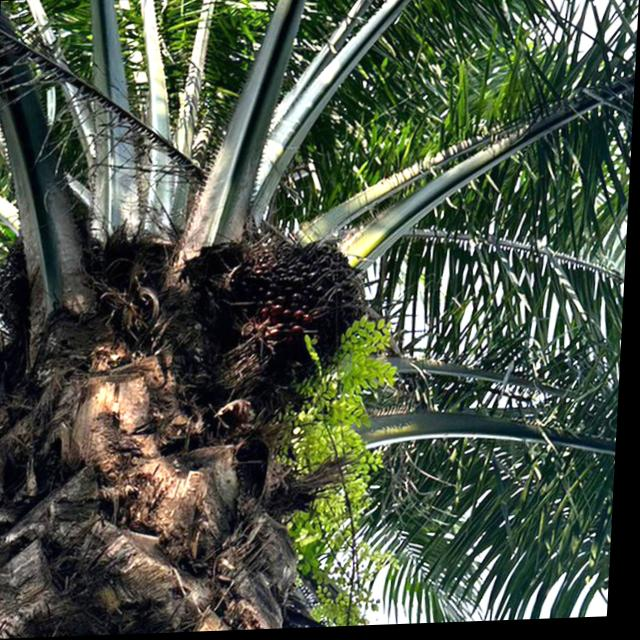unripe: (228, 230, 371, 368)
